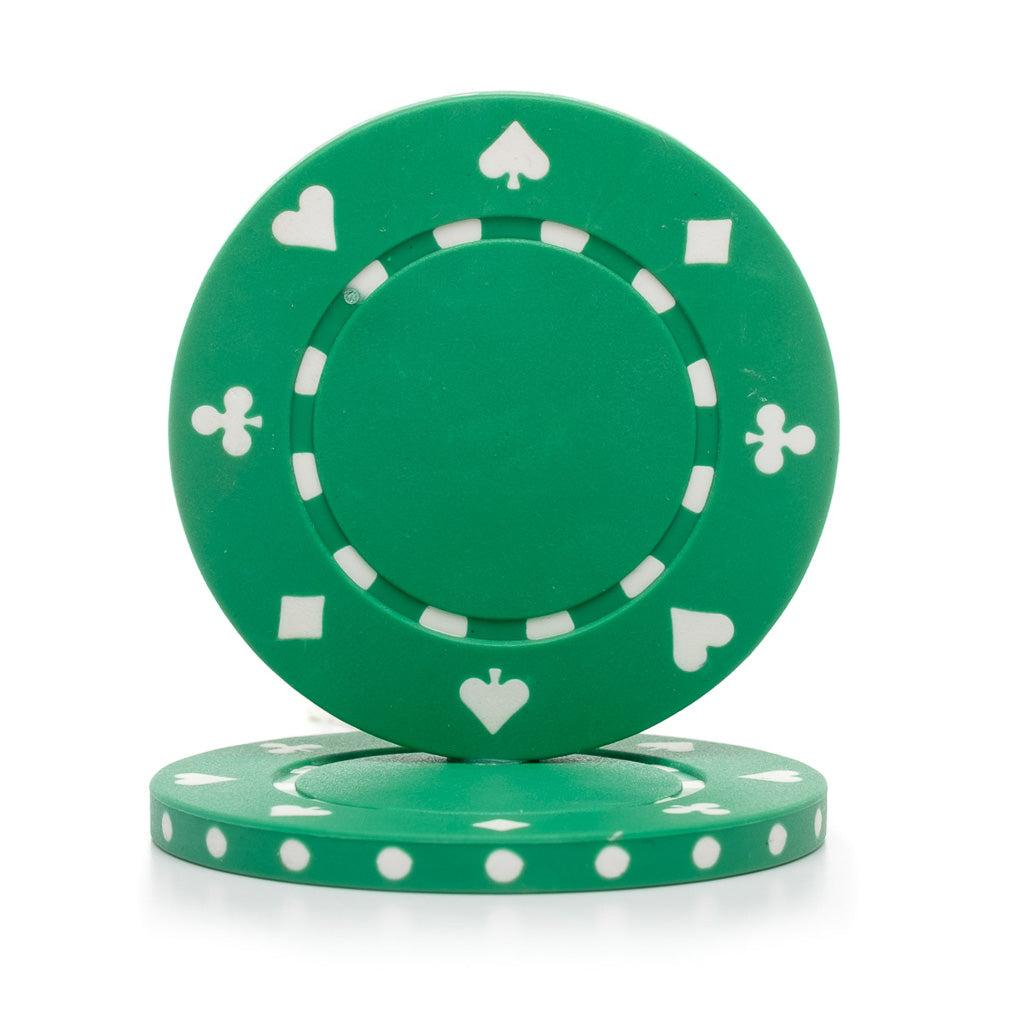chip-green: (152, 94, 838, 893), (152, 732, 824, 892)
